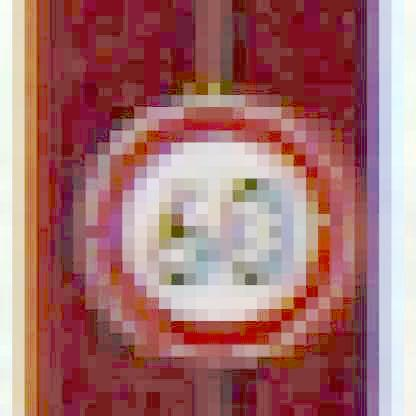Speed Limit -60-: (80, 95, 348, 364)
